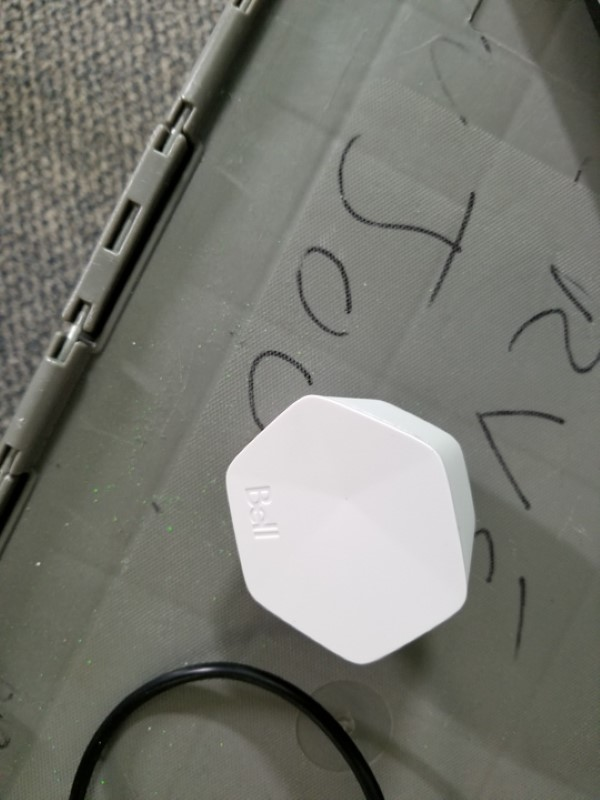pod: (210, 392, 486, 674)
